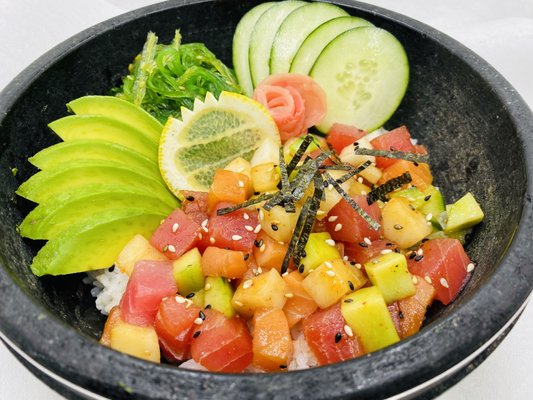sushi: (0, 0, 487, 400)
